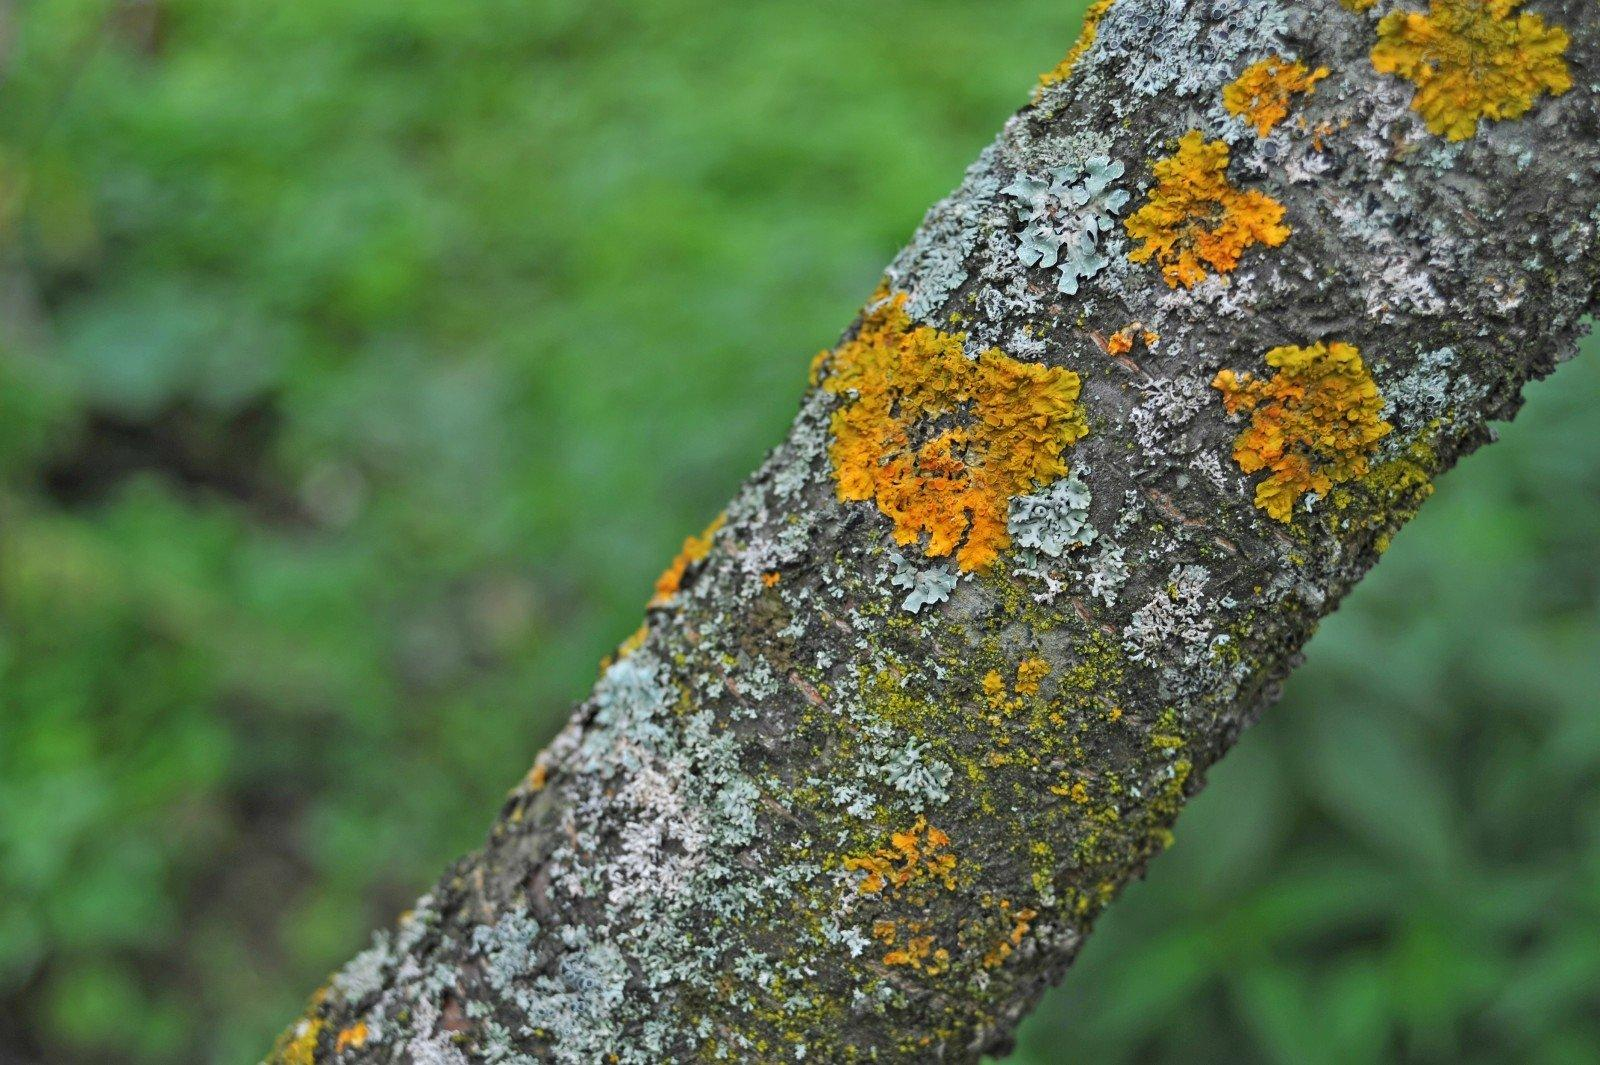lichen: (819, 292, 1086, 571), (1212, 342, 1391, 521), (1371, 0, 1571, 140), (1125, 131, 1290, 286), (1001, 155, 1129, 294), (1223, 55, 1328, 137), (1035, 0, 1114, 101)
